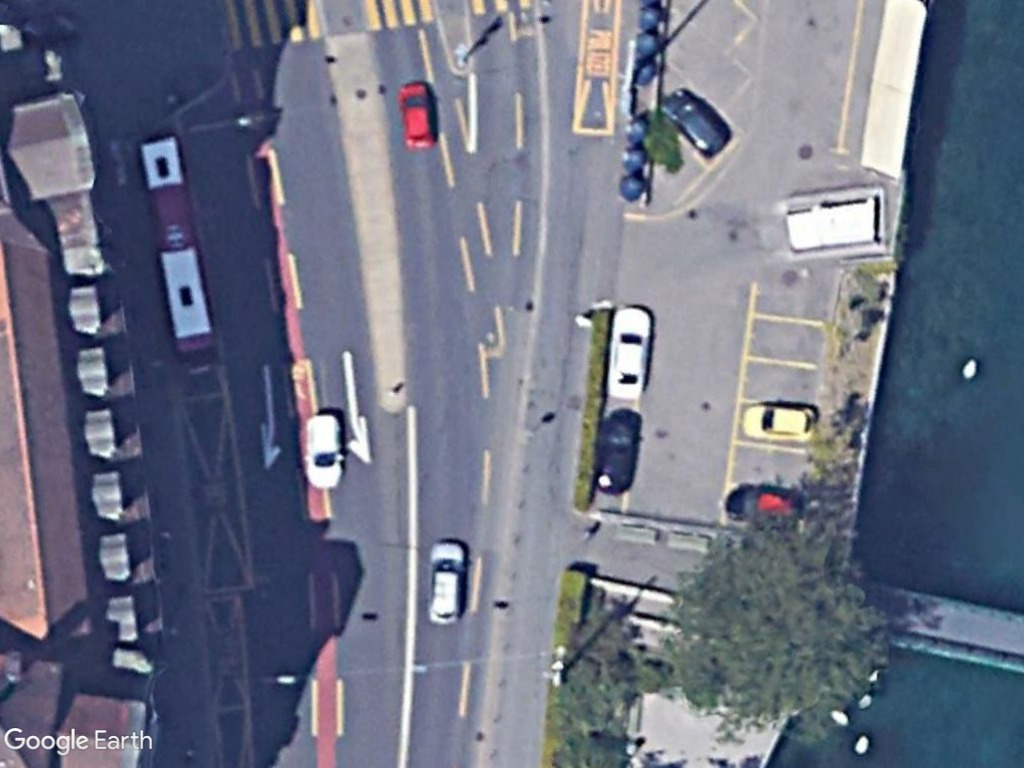bus: (135, 132, 219, 358)
car: (605, 305, 658, 403), (424, 536, 466, 629), (397, 78, 439, 153), (738, 405, 820, 443)
van: (303, 410, 346, 491)
